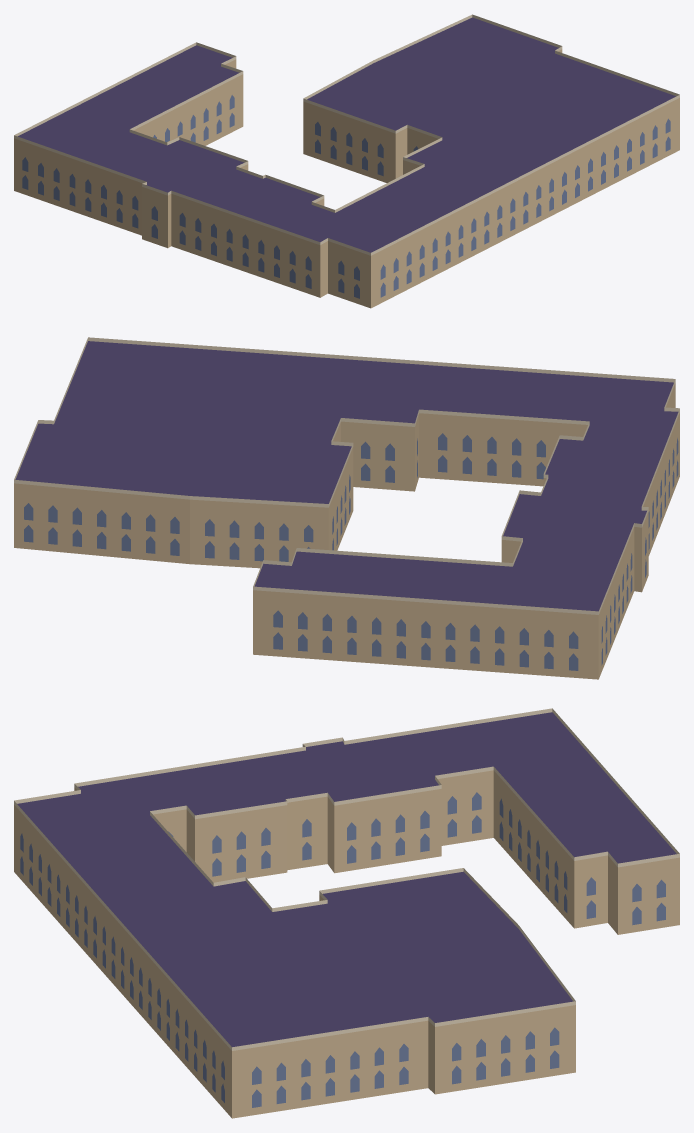
The model's file is b-048-day.glb.
3 renders of one model, top to bottom at view 1: azimuth 30°, elevation 25°; view 2: azimuth 150°, elevation 25°; view 3: azimuth 270°, elevation 25°, orthographic. The views are drawn at different scales.
Visible parts, largest first — view 1: campus/b-048-day-0; view 2: campus/b-048-day-0; view 3: campus/b-048-day-0.
Part boxes in pixels (left/top/right/bottom): campus/b-048-day-0: left=14, top=14, right=679, bottom=308; campus/b-048-day-0: left=14, top=337, right=679, bottom=679; campus/b-048-day-0: left=14, top=708, right=679, bottom=1118.
Size of the model in its own units: 104 by 10.25 by 86.68.
